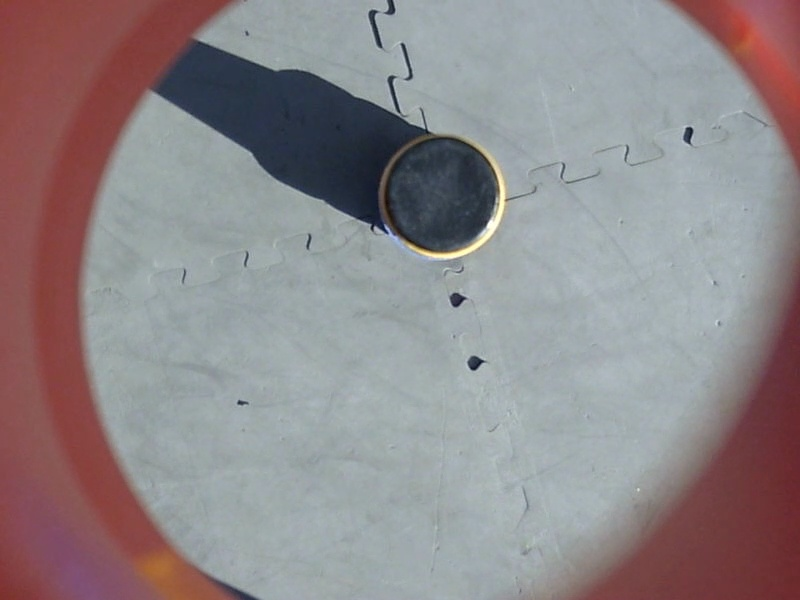tip: (373, 126, 516, 266)
